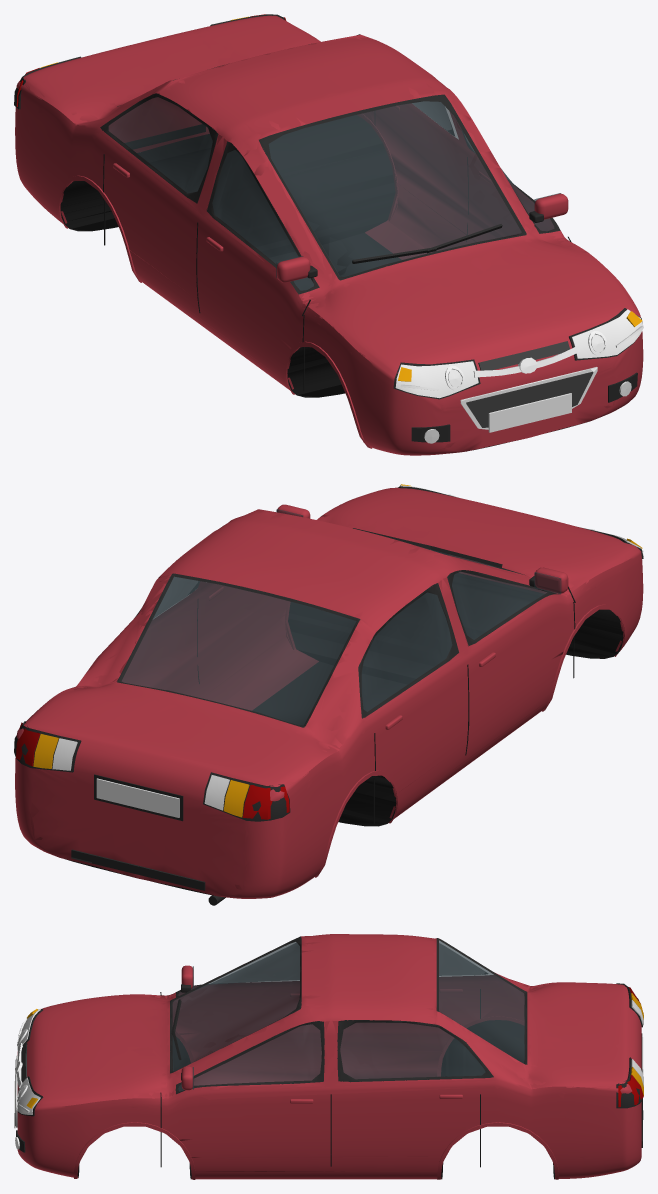
File: granta.glb
The picture shows the model from 3 angles, top to bottom: view 1: azimuth 30°, elevation 25°; view 2: azimuth 150°, elevation 25°; view 3: azimuth 270°, elevation 25°; orthographic projection. The views are drawn at different scales.
Parts seen in each view (by area): view 1: LOD_hi, LOD0; view 2: LOD_hi, LOD0; view 3: LOD_hi, LOD0.
Boxes of the visible parts, x1,y1,x2,y2 form: LOD_hi: (14, 14, 643, 455); LOD0: (17, 14, 638, 449); LOD_hi: (14, 484, 643, 904); LOD0: (22, 484, 641, 905); LOD_hi: (14, 934, 643, 1179); LOD0: (15, 934, 643, 1178).
Size of what is drawn, in the model's own units: 1.82 by 1.3 by 4.3.
